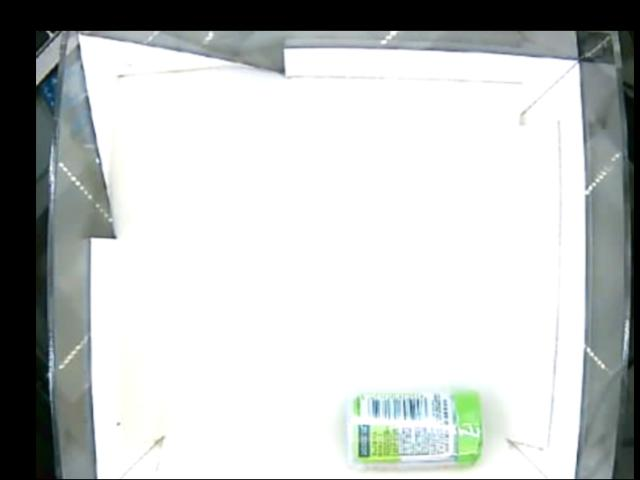Bottle: (348, 389, 484, 471)
